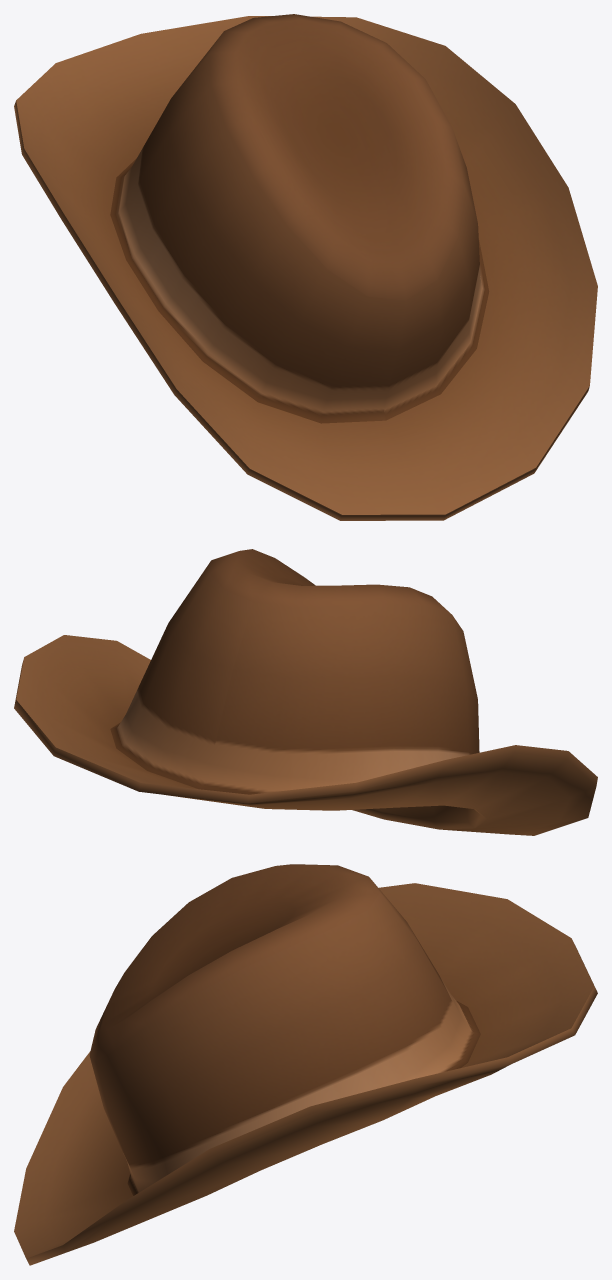
Rendered from hat.FBX.
The picture shows the model from 3 angles, top to bottom: view 1: azimuth 30°, elevation 25°; view 2: azimuth 150°, elevation 25°; view 3: azimuth 270°, elevation 25°; orthographic projection. The views are drawn at different scales.
Visible parts, largest first — view 1: hat; view 2: hat; view 3: hat.
Part boxes in pixels (x1,y1,x2,y2): hat: (14,14,597,520); hat: (14,549,597,835); hat: (14,864,597,1265).
Bounding box in the file's own units: 51.59 × 40.41 × 60.52.
